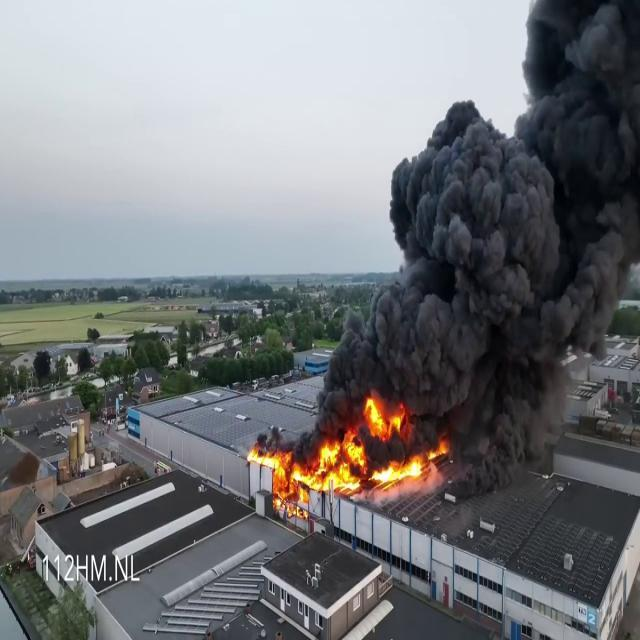Fire: (250, 398, 434, 505)
Smoke: (316, 3, 640, 457)
